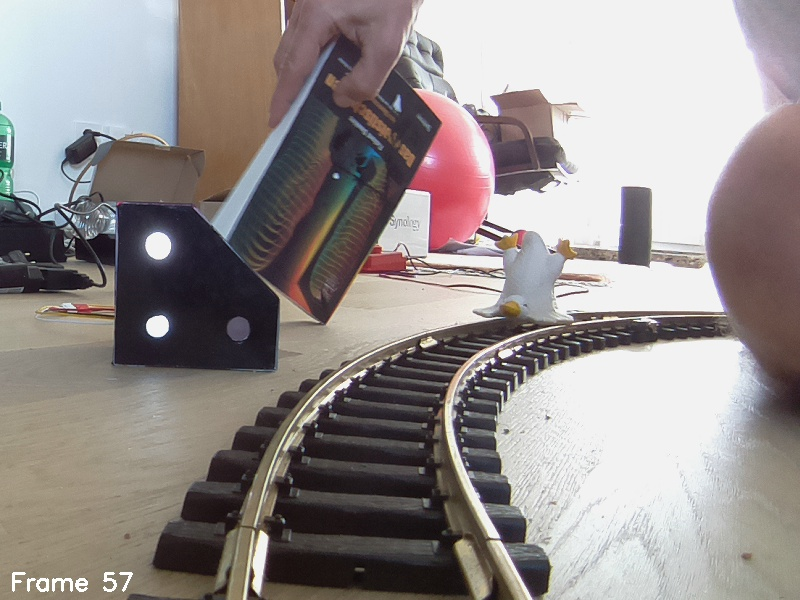Ente: (473, 228, 581, 334)
Fahrt: (118, 202, 276, 375)
